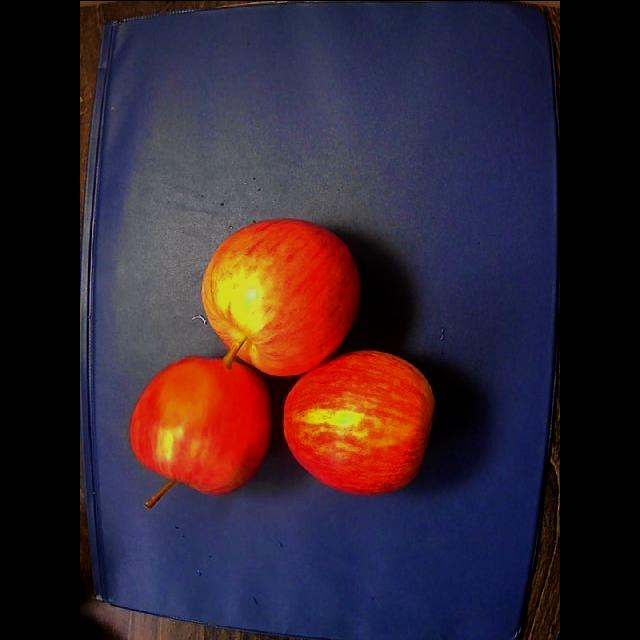manzana: (202, 218, 359, 375), (284, 349, 433, 494), (130, 356, 270, 507)
